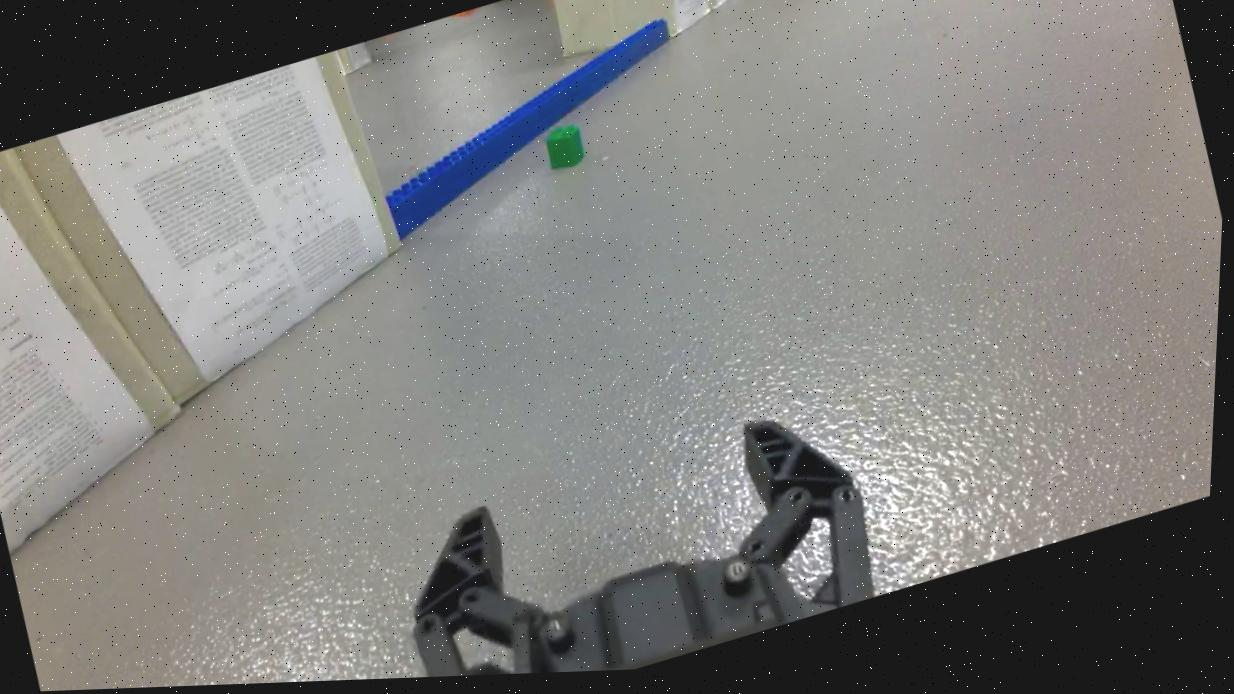2x2lego: (541, 123, 591, 179)
